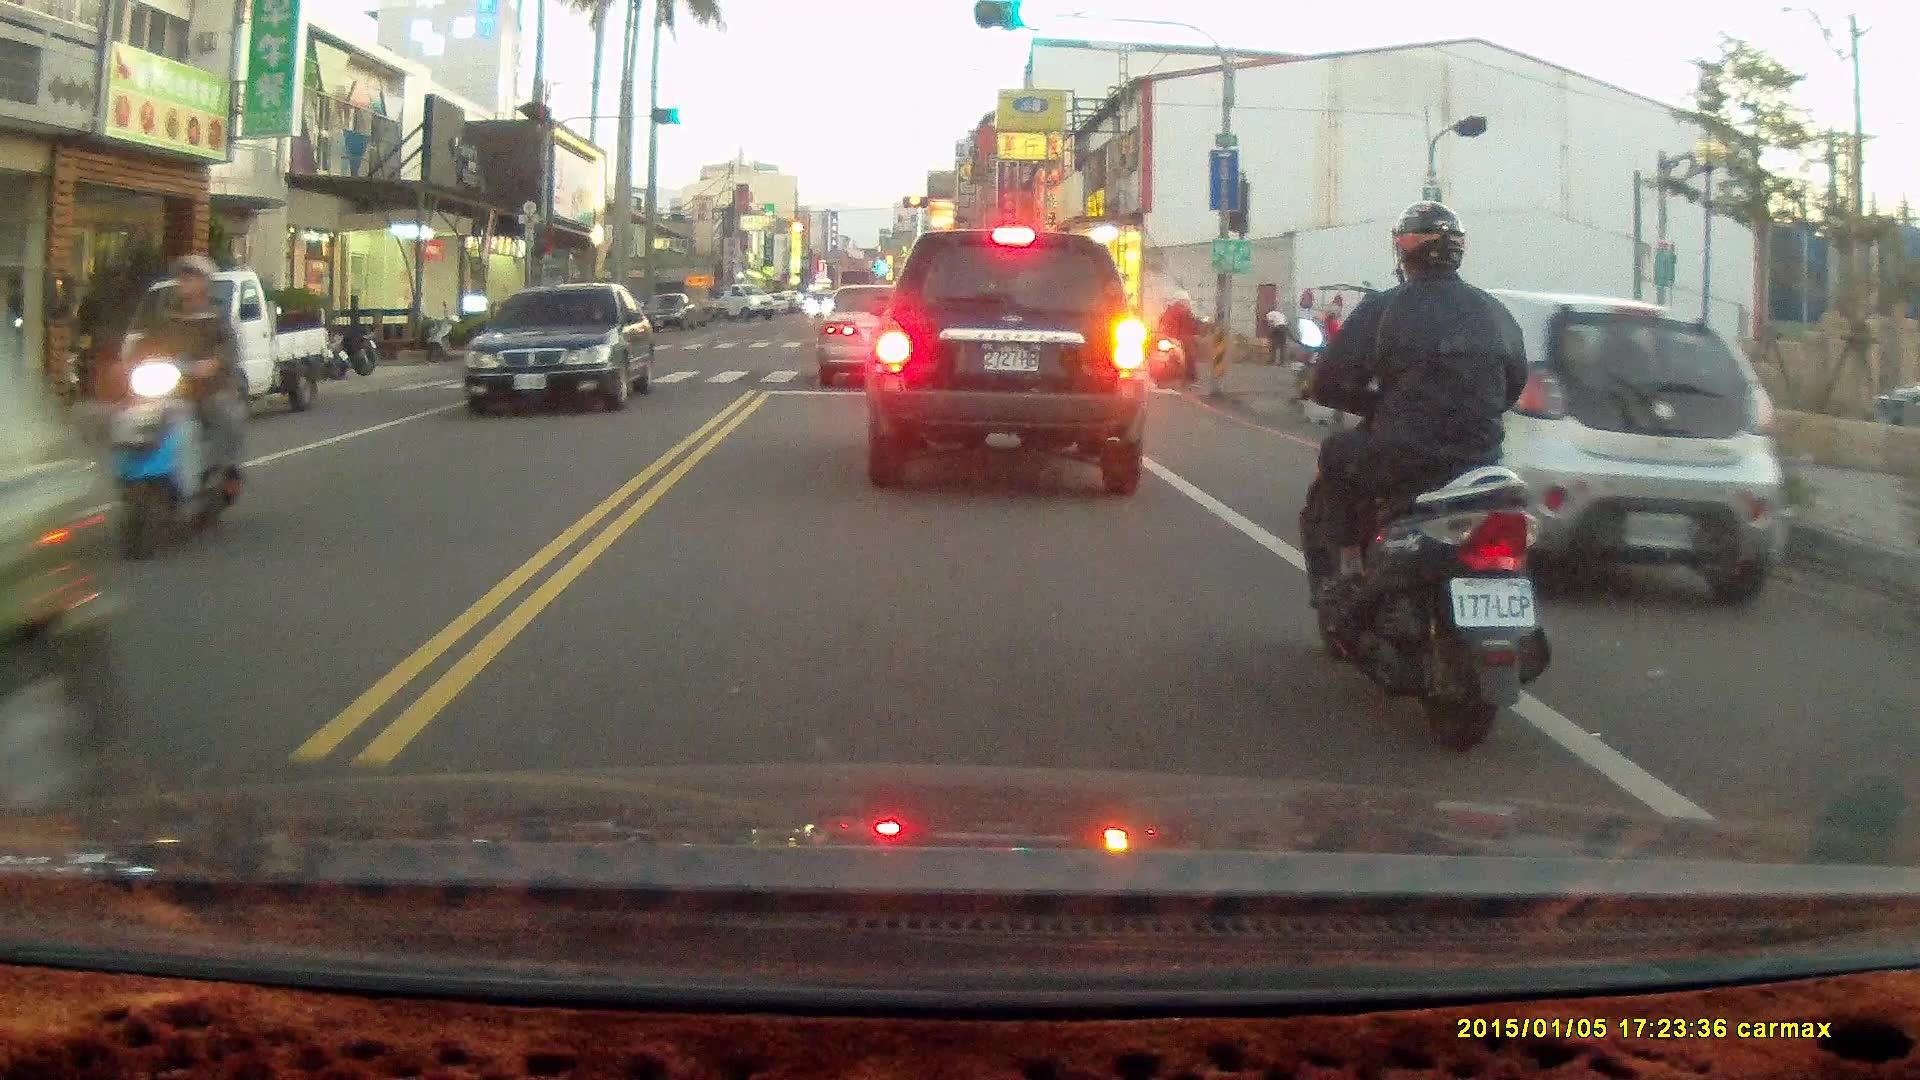pedestrian: (1259, 302, 1288, 367)
rider: (1280, 198, 1552, 751), (107, 252, 244, 563), (1145, 289, 1210, 389), (1289, 303, 1362, 387)
vehicle: (1354, 292, 1796, 606), (864, 224, 1150, 496), (1, 302, 128, 802), (113, 268, 333, 421), (467, 281, 657, 414), (816, 281, 937, 391)
